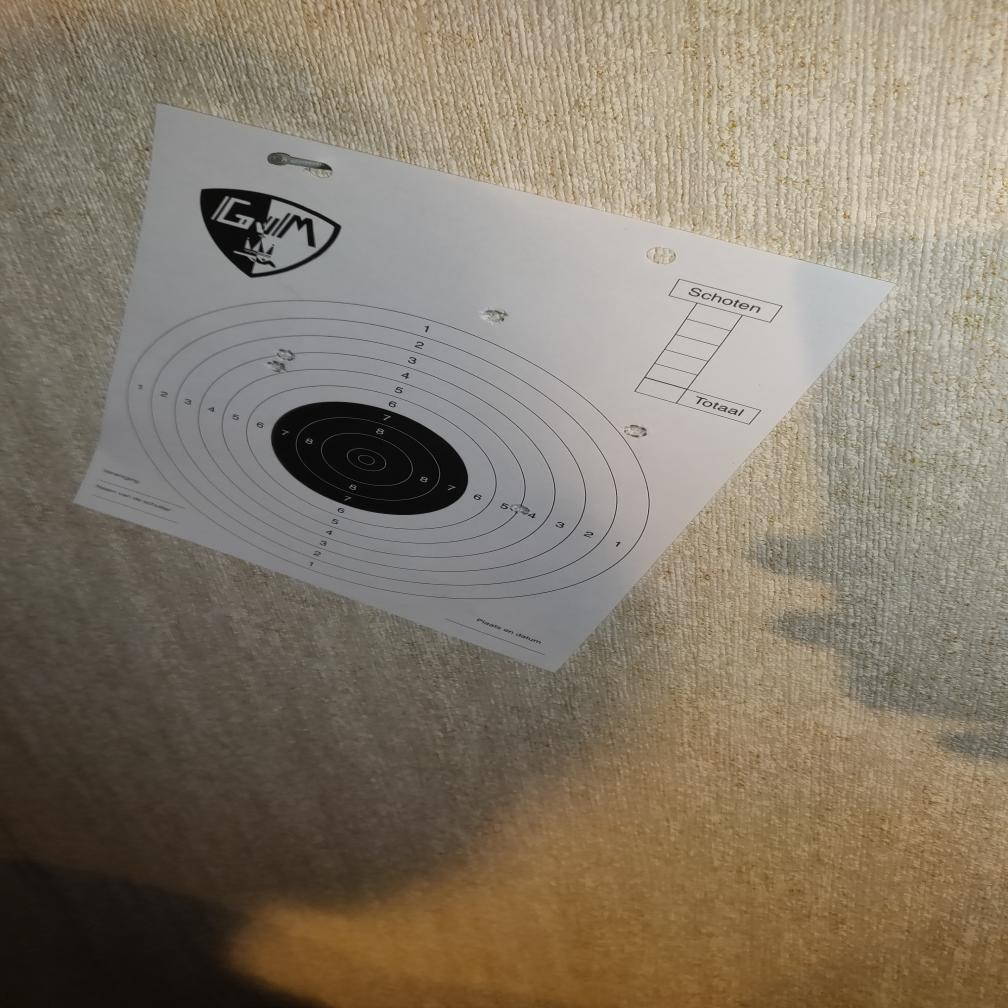0: (622, 423, 654, 439), (482, 308, 509, 324)
4: (273, 348, 300, 360), (265, 360, 291, 372)
5: (508, 502, 531, 517)
Target: (123, 298, 654, 601)
black_contour: (270, 401, 469, 515)
